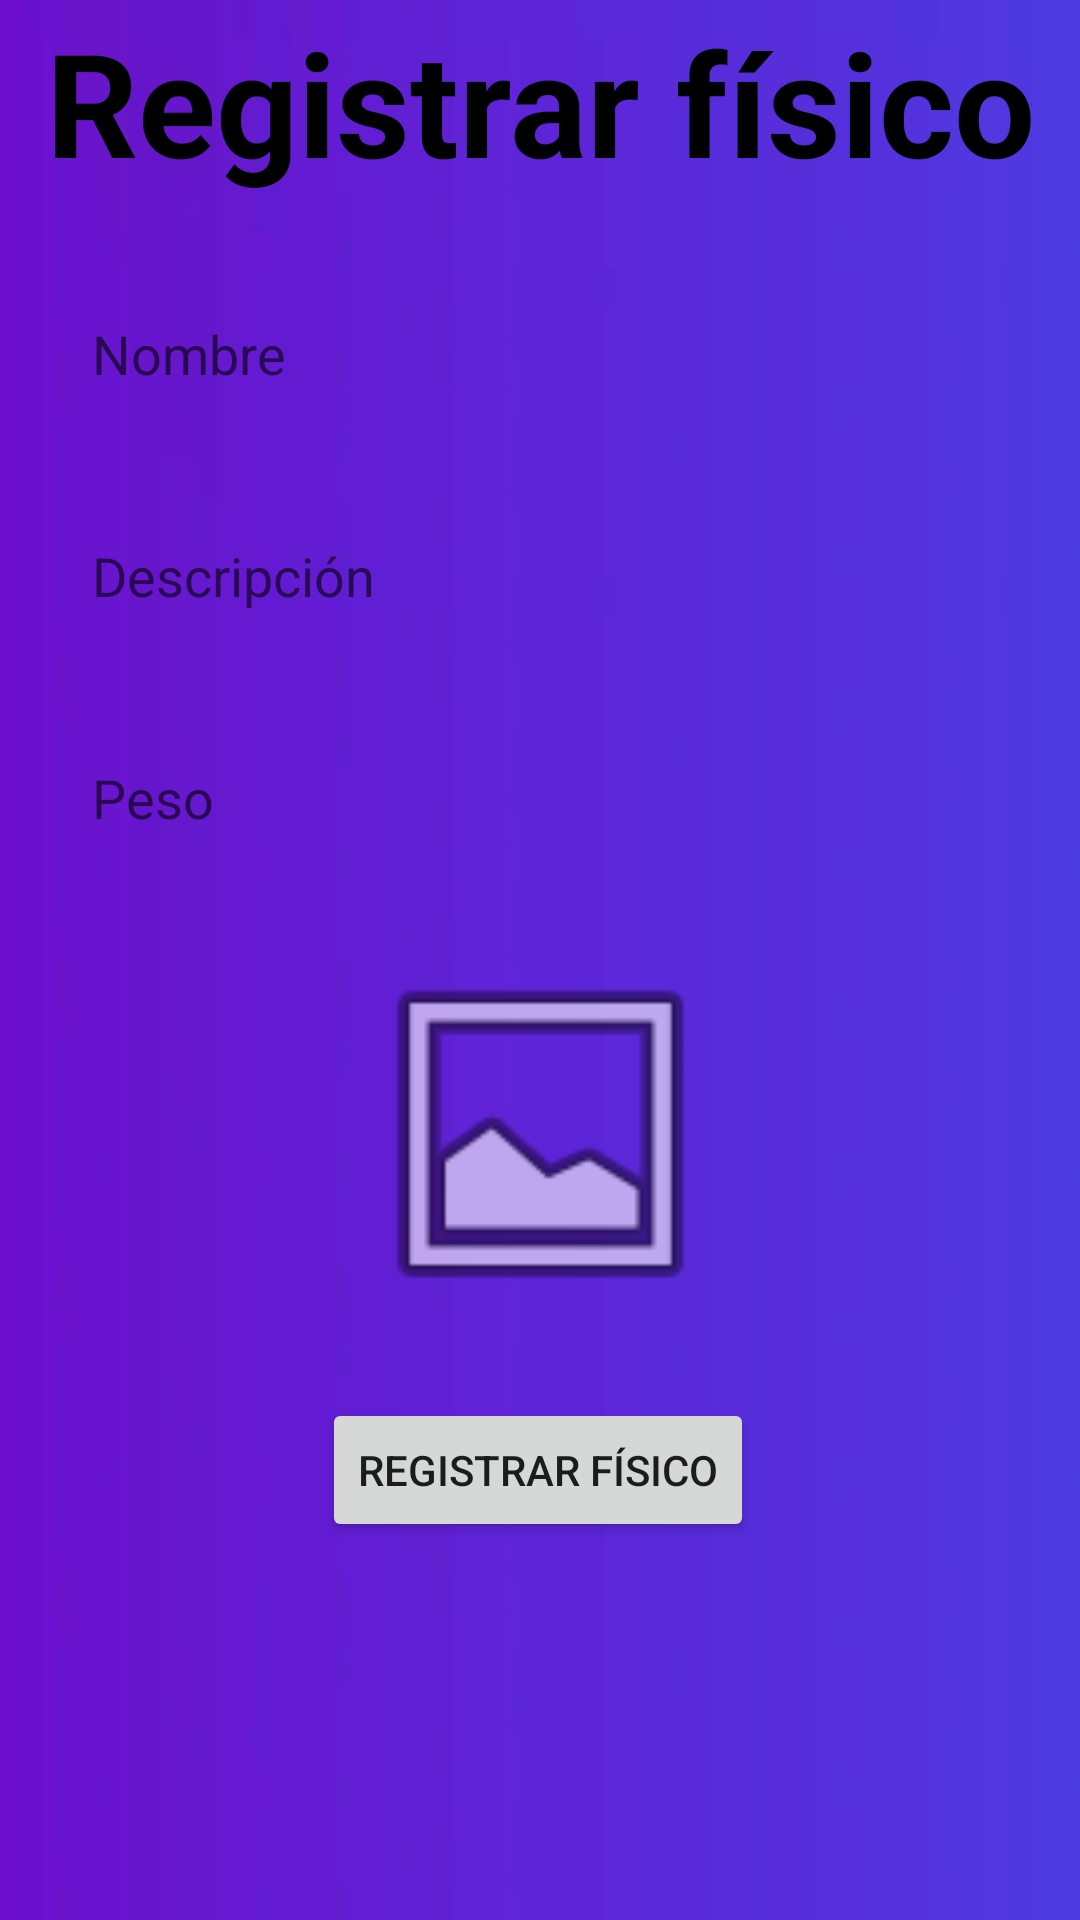

Where to tap for icons on this 1080px×1920px app screen, as (x=x, y=y):
gallery: (x=540, y=1134)
